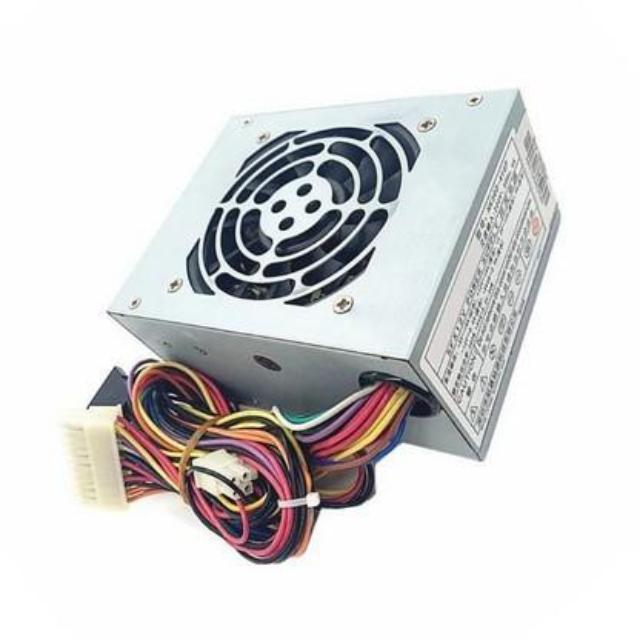PSU: (97, 73, 565, 487)
